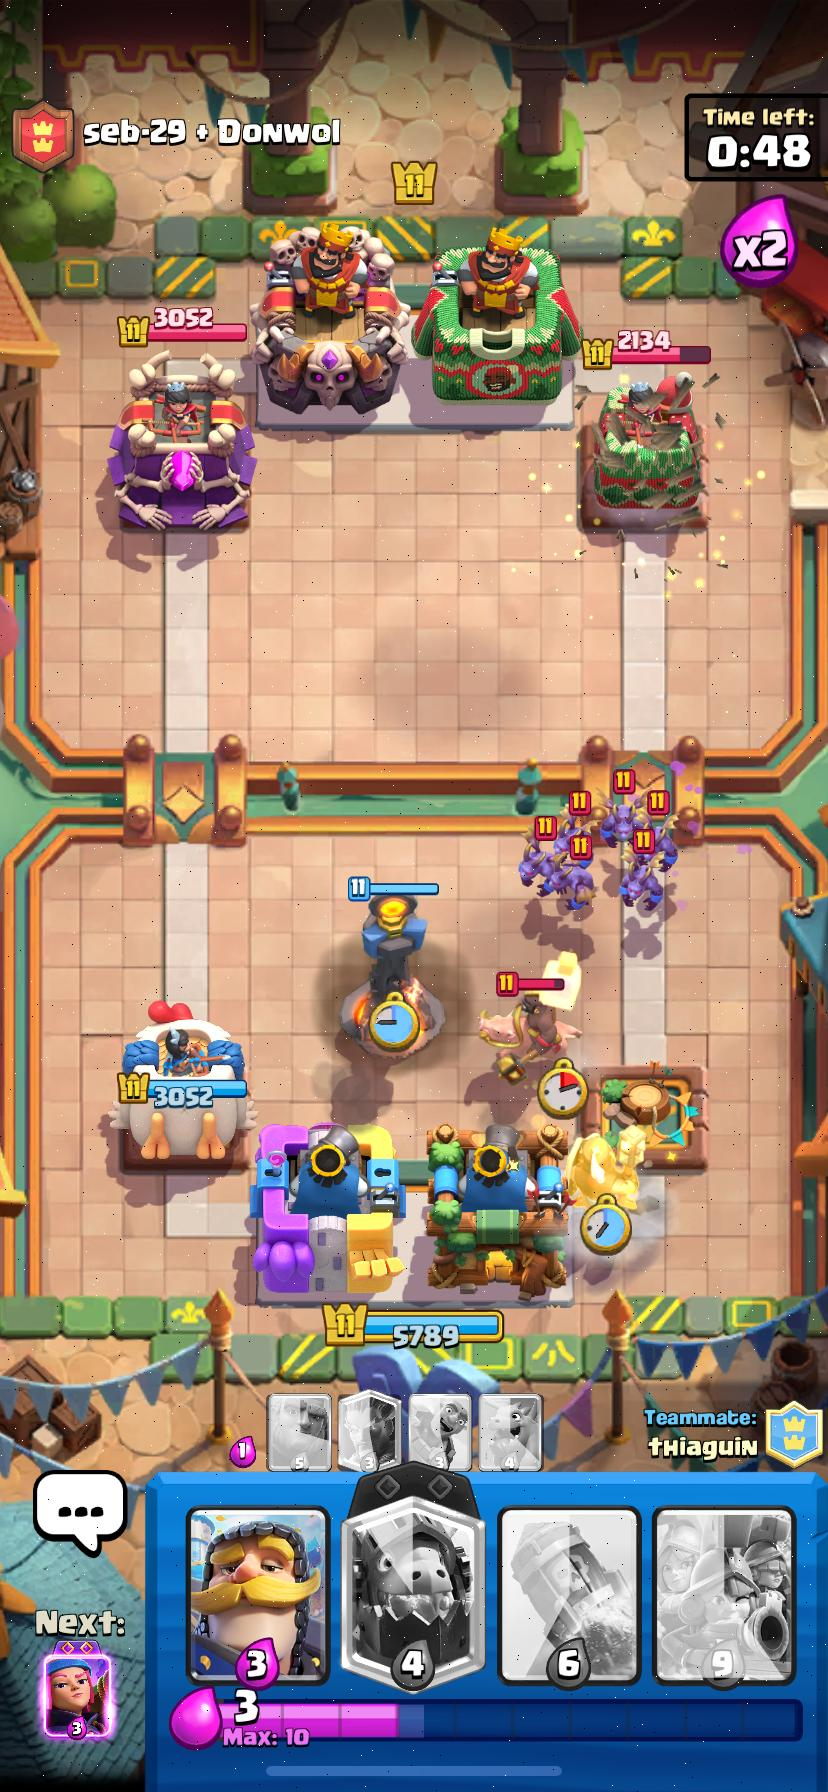EHogRider: (480, 991, 580, 1083)
EKingTower: (252, 223, 411, 414), (414, 226, 580, 403)
EnemyPrincessTower: (108, 355, 255, 531), (581, 371, 706, 533)
ODarkPrince: (566, 1125, 647, 1213)
OInfernoTower: (340, 887, 444, 1057)
OwnKingTower: (253, 1123, 403, 1298), (427, 1125, 566, 1301)
OwnPrincessTower: (109, 1003, 255, 1163)
TowerDown: (586, 1063, 708, 1171)
eminion: (550, 853, 594, 910), (519, 839, 562, 896), (619, 861, 662, 913), (632, 826, 677, 872), (602, 805, 652, 845), (554, 814, 592, 861)
